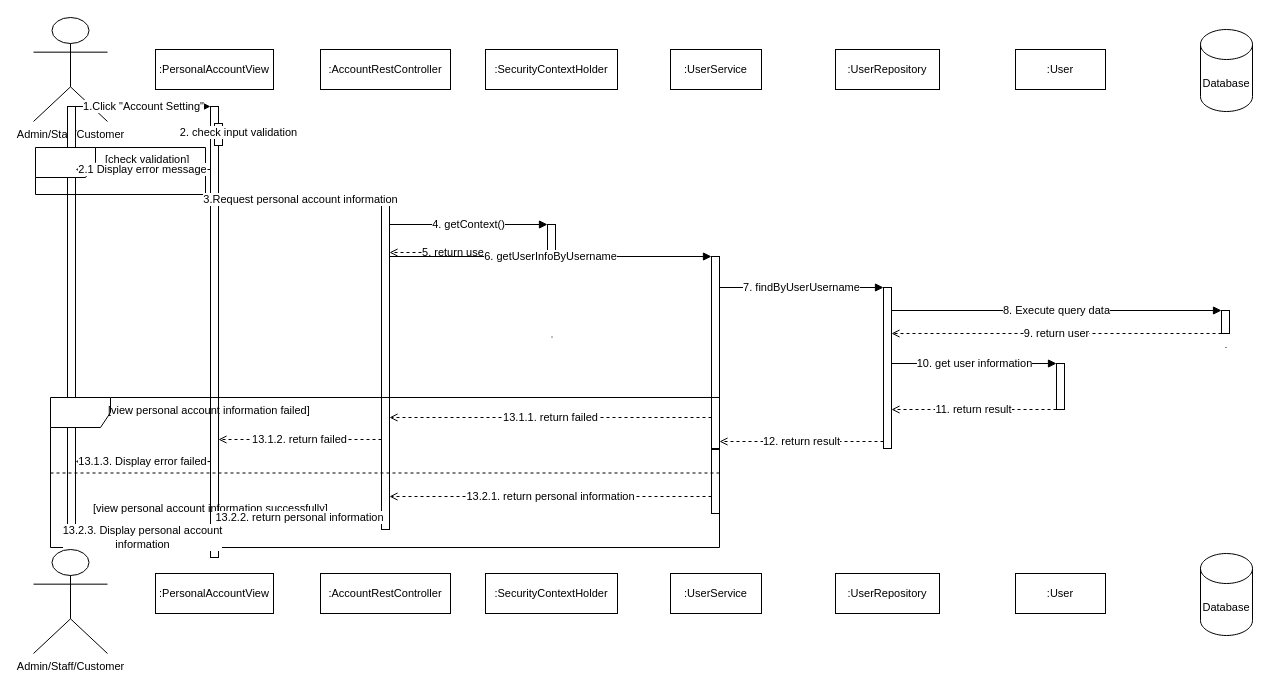
Image size: 1270x691. Some labels were removed from this diagram. Here are the shapes that lost their labels. From the top down, the box of each, then its label:
(34, 146, 206, 194): opt
(50, 396, 720, 548): alt
